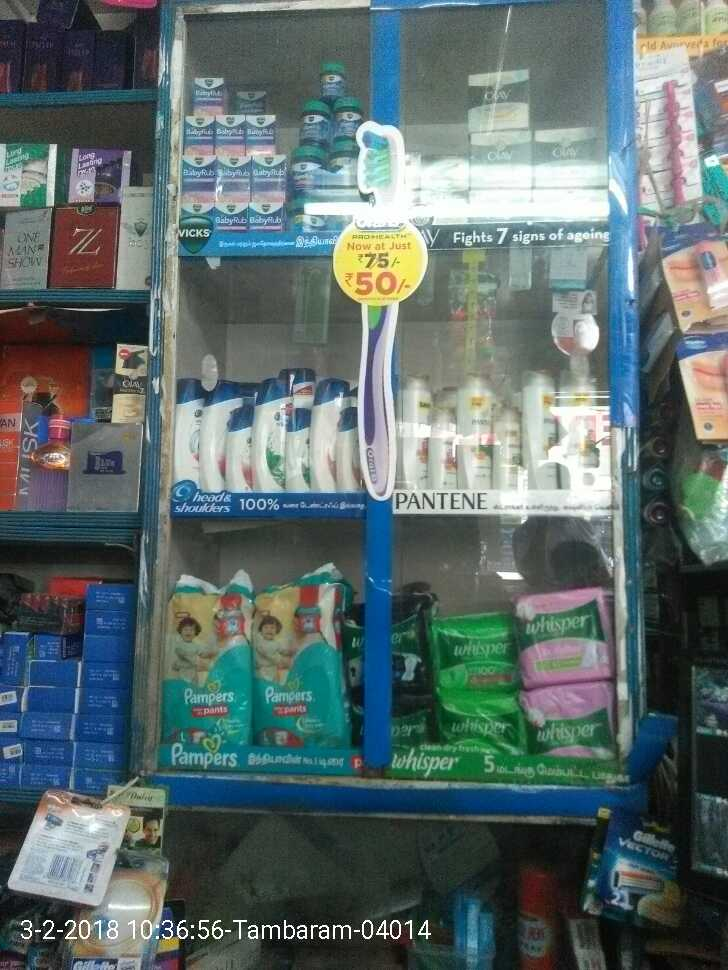vicks: (184, 51, 287, 234), (287, 51, 374, 232)
